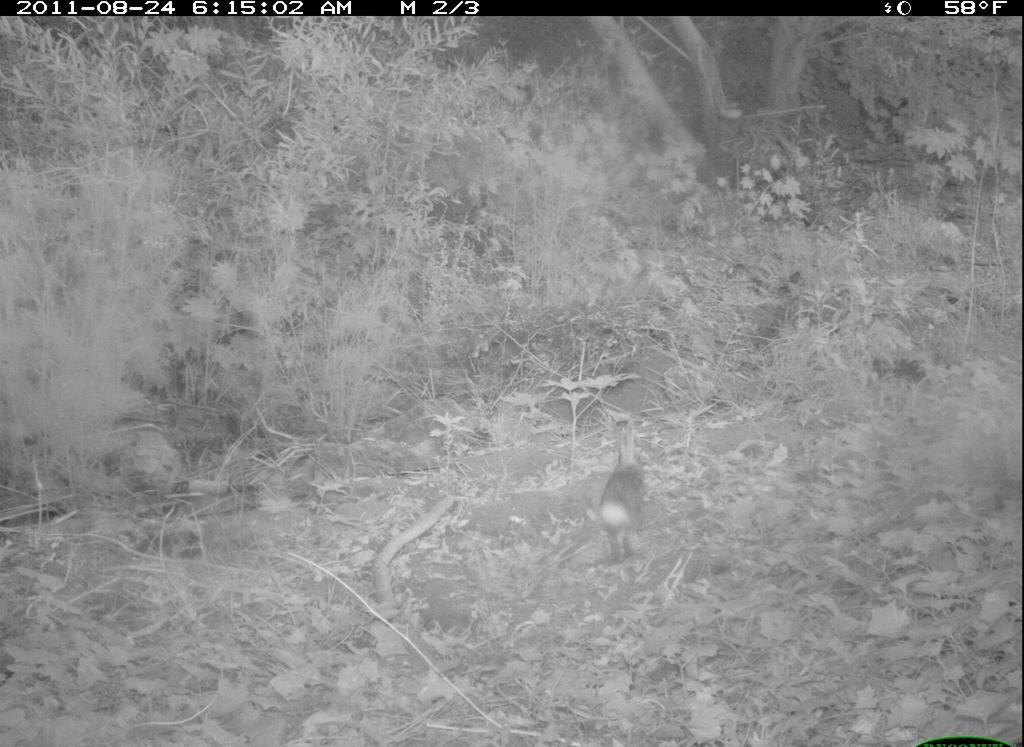rabbit: (556, 413, 669, 624)
